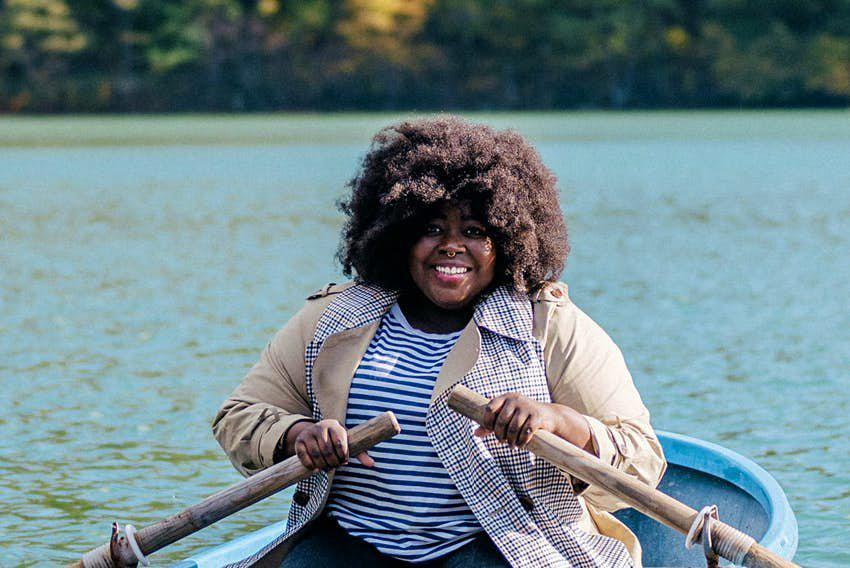Sober: (412, 207, 491, 304)
